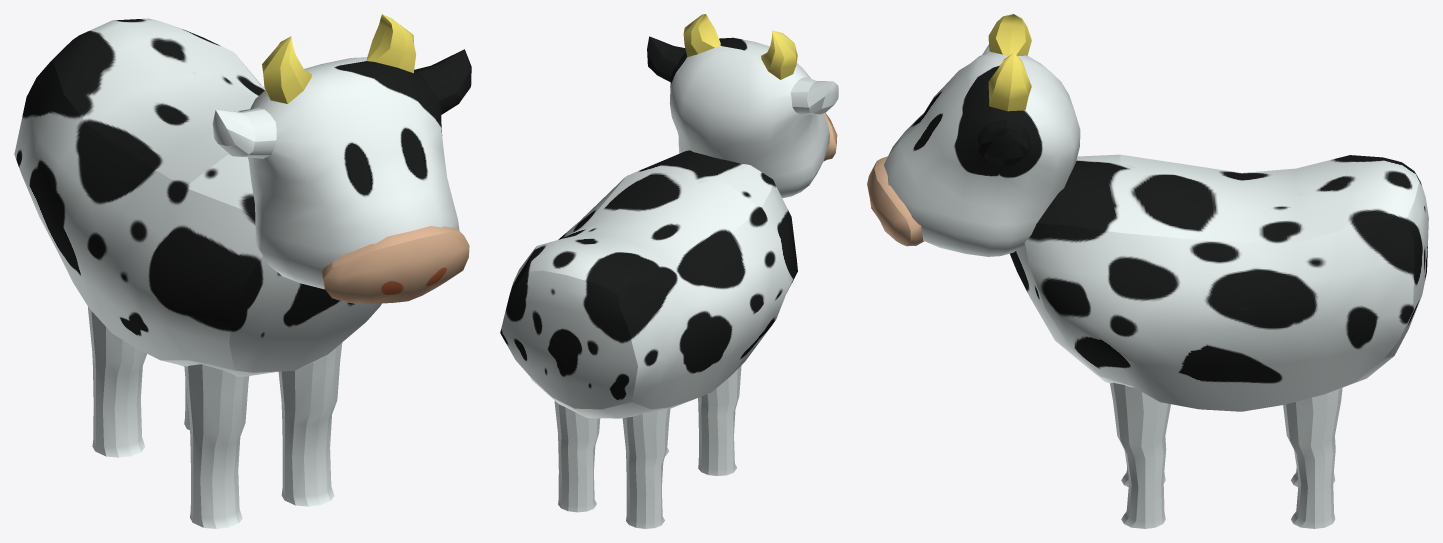
File: Cow.fbx
3 renders of one model, left to right at view 1: azimuth 30°, elevation 25°; view 2: azimuth 150°, elevation 25°; view 3: azimuth 270°, elevation 25°, orthographic. The views are drawn at different scales.
Parts seen in each view (by area): view 1: BodyGEO, FaceGEO, Leg1, NoseGEO, Leg, Leg3; view 2: BodyGEO, FaceGEO, Leg3, Leg2, Leg1; view 3: BodyGEO, FaceGEO, Leg, Leg2, NoseGEO.
Boxes of the visible parts, x1=… form: BodyGEO: x1=14, y1=18, x2=381, y2=376; FaceGEO: x1=212, y1=14, x2=471, y2=289; Leg1: x1=184, y1=364, x2=249, y2=528; NoseGEO: x1=322, y1=226, x2=469, y2=303; Leg: x1=278, y1=343, x2=342, y2=506; Leg3: x1=88, y1=307, x2=146, y2=457; BodyGEO: x1=500, y1=150, x2=797, y2=418; FaceGEO: x1=647, y1=14, x2=838, y2=198; Leg3: x1=622, y1=408, x2=670, y2=528; Leg2: x1=554, y1=401, x2=600, y2=512; Leg1: x1=698, y1=365, x2=741, y2=475; BodyGEO: x1=1010, y1=154, x2=1428, y2=411; FaceGEO: x1=884, y1=14, x2=1080, y2=256; Leg: x1=1110, y1=382, x2=1170, y2=528; Leg2: x1=1283, y1=388, x2=1342, y2=528; NoseGEO: x1=867, y1=156, x2=923, y2=246.
Bounding box in the file's own units: 3.17 × 6.04 × 6.59.
